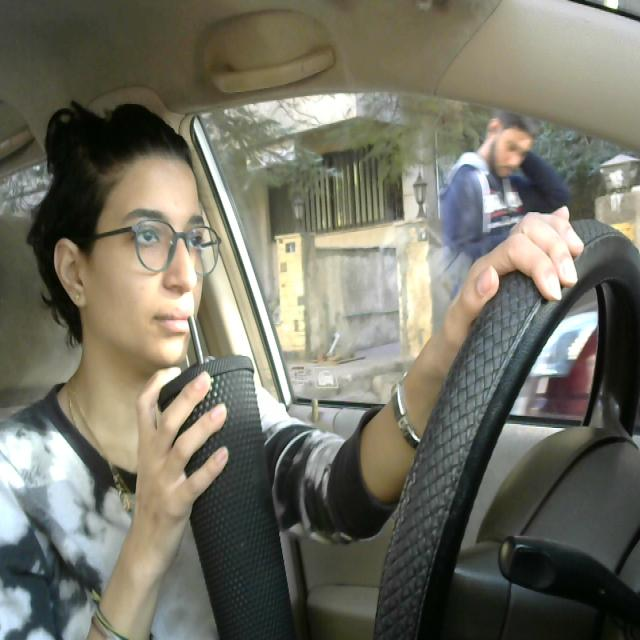drinking: (152, 314, 294, 640)
